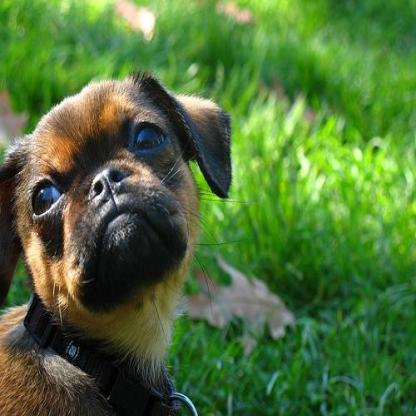Brabancon_griffon: (0, 65, 231, 413)
